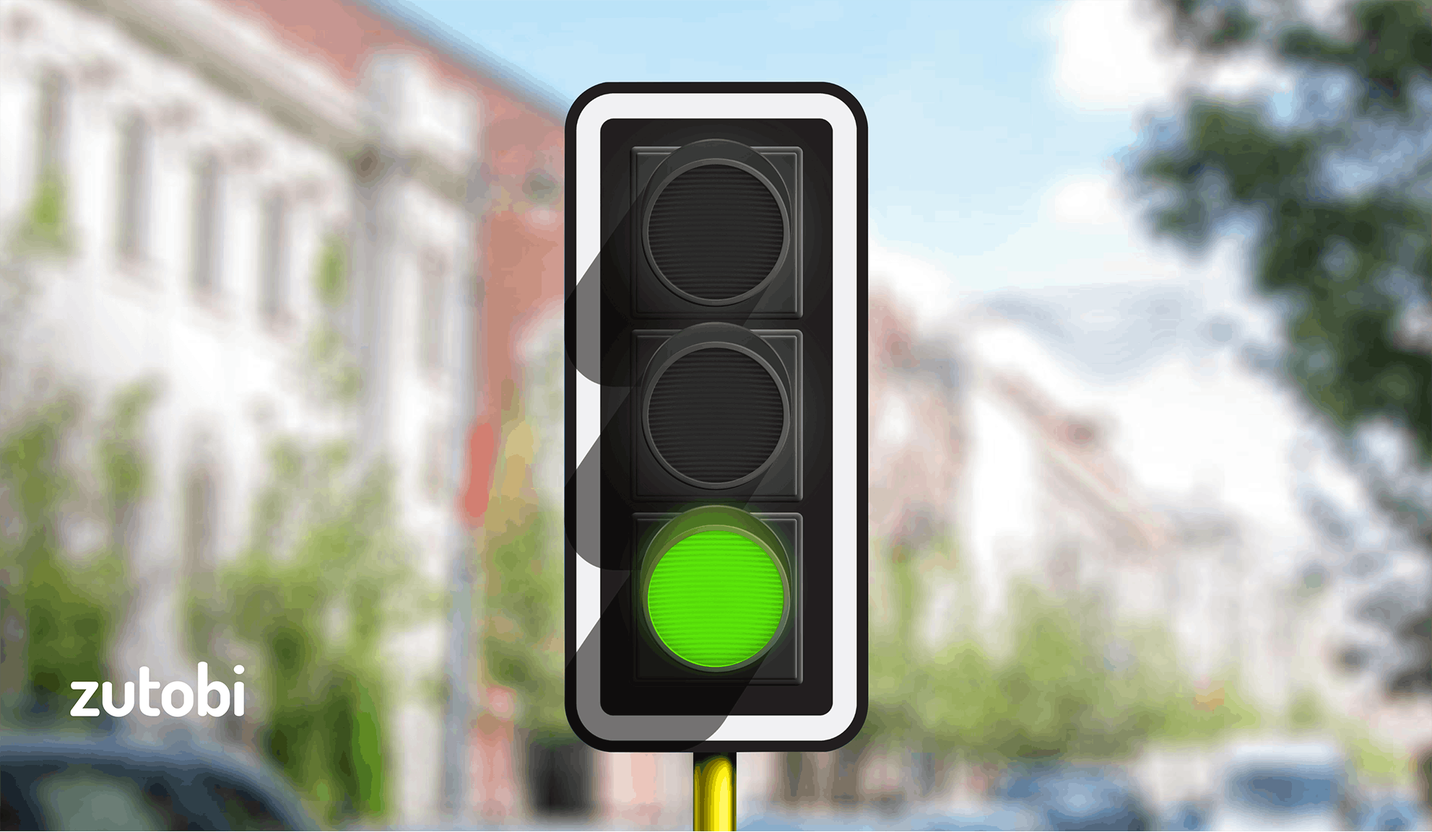TraficLight: (525, 74, 892, 768)
